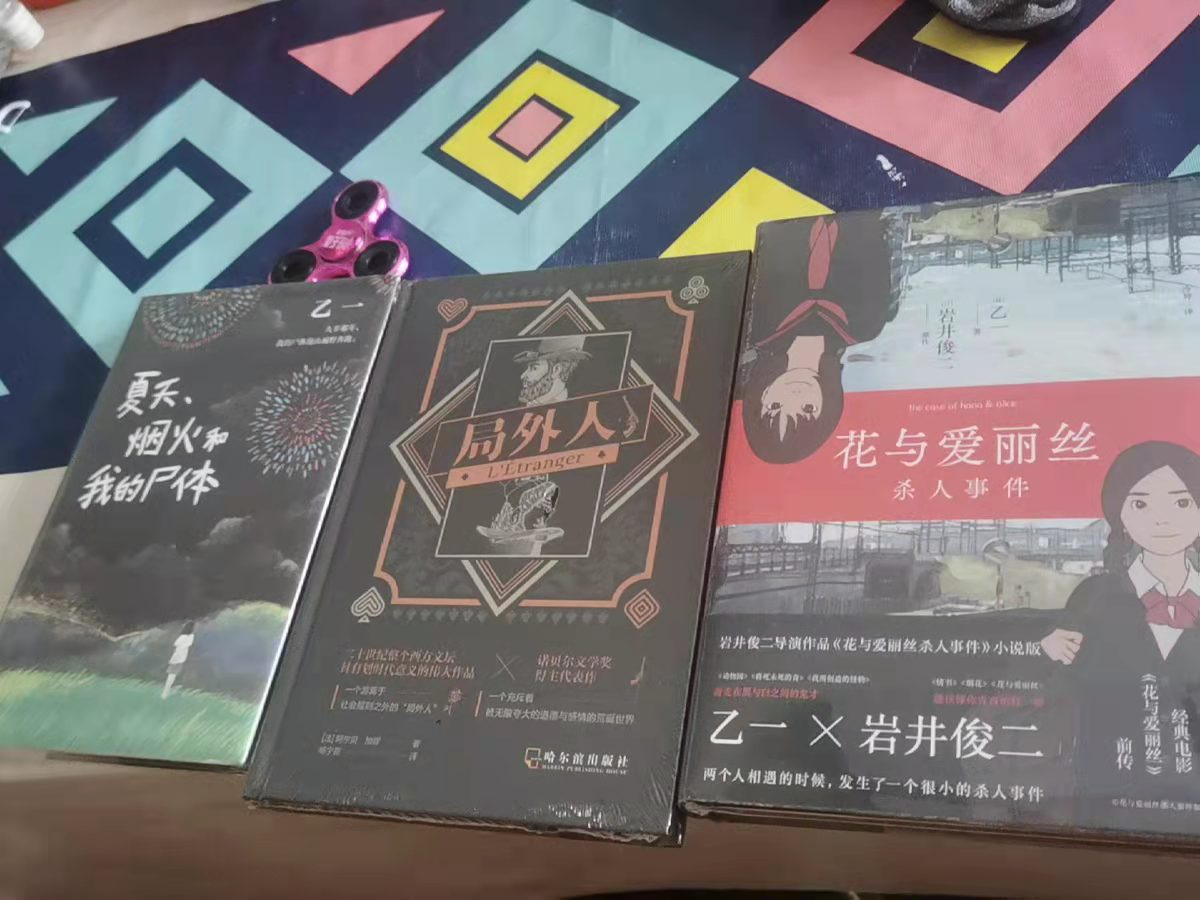book: (675, 180, 1200, 841), (245, 261, 764, 841), (10, 282, 405, 758)
